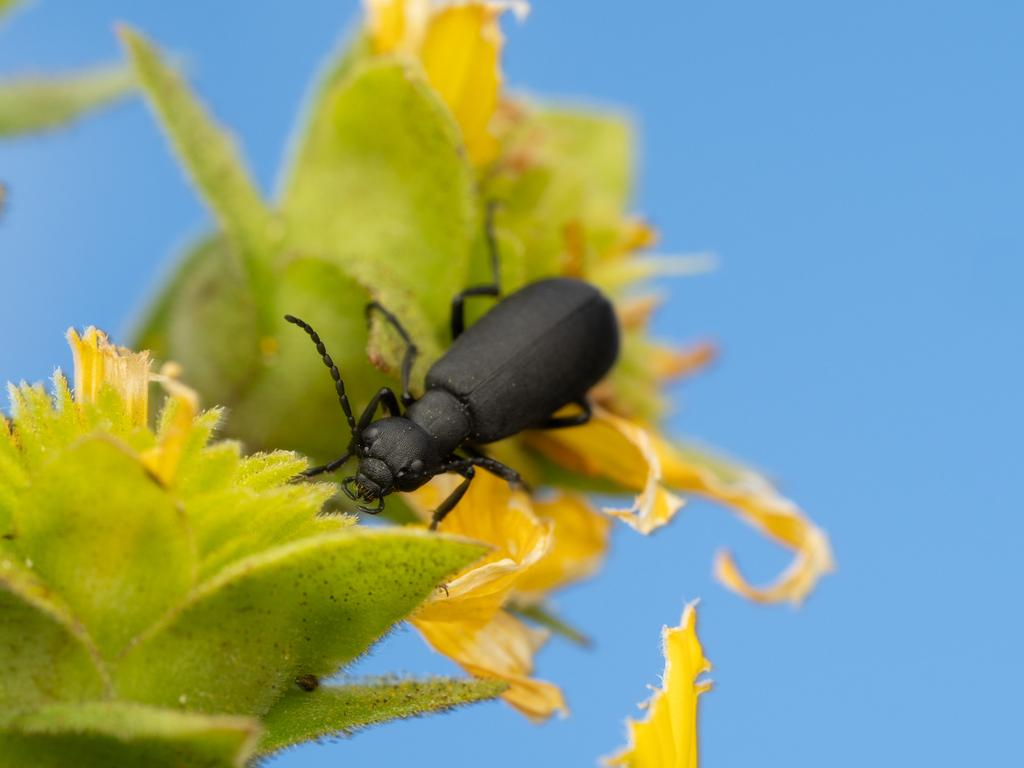blister_beetle: (226, 186, 746, 616)
